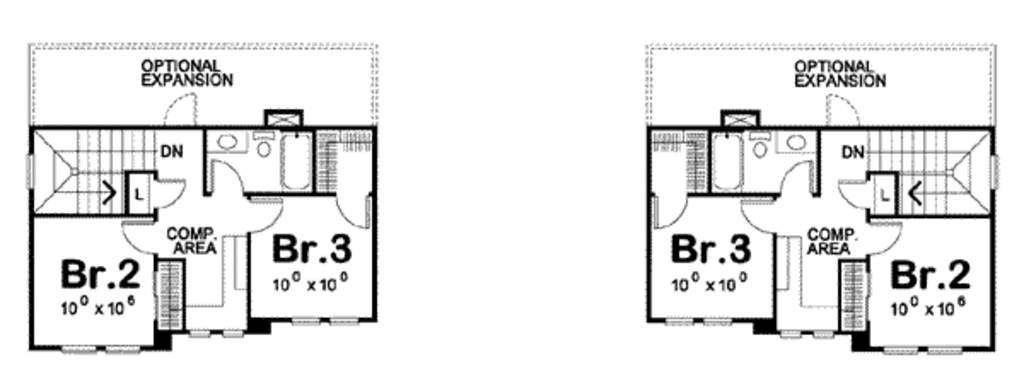door: (734, 191, 776, 241), (203, 154, 248, 200), (114, 216, 157, 256), (161, 88, 201, 130), (247, 195, 290, 231), (780, 159, 820, 197), (146, 174, 187, 211), (824, 89, 860, 131), (836, 179, 878, 213), (334, 193, 368, 233), (653, 195, 689, 231), (868, 221, 904, 255)
large_sink: (249, 128, 277, 162), (749, 129, 772, 161)
small_sink: (206, 128, 249, 154), (776, 129, 818, 151)
stairs: (29, 130, 154, 220), (867, 127, 991, 216)
tub: (708, 130, 750, 193), (279, 126, 312, 194)
window: (872, 342, 918, 357), (664, 310, 697, 329), (55, 342, 97, 355), (987, 153, 1002, 189), (105, 341, 141, 356), (777, 321, 804, 341), (705, 312, 732, 331), (289, 316, 322, 329), (184, 326, 212, 341)
